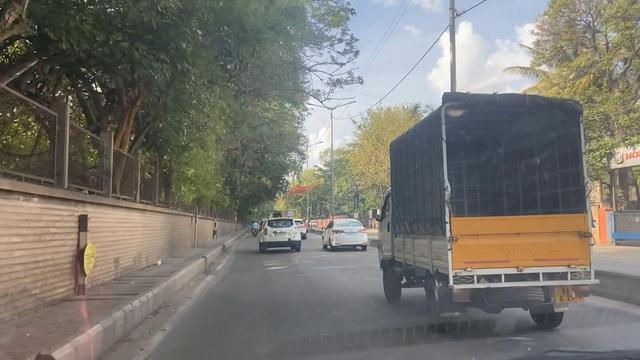HMV: (378, 98, 578, 318)
LMV: (260, 216, 303, 253)
